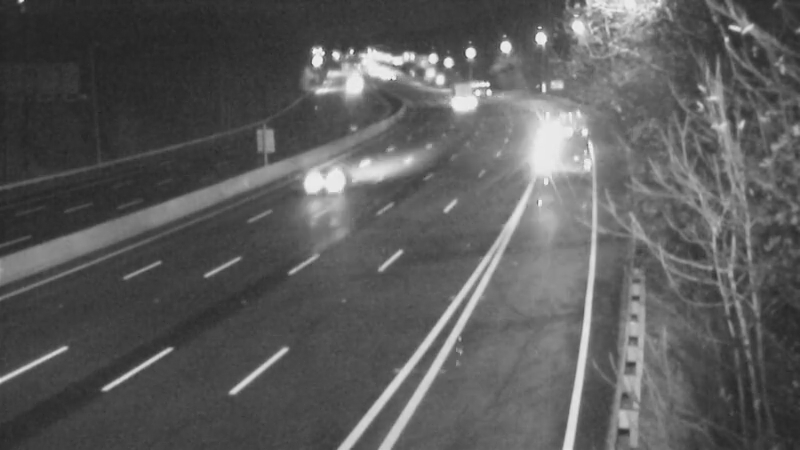vehicle: (296, 140, 376, 220), (455, 69, 505, 119), (434, 64, 484, 114), (534, 103, 584, 153), (326, 57, 376, 107)
